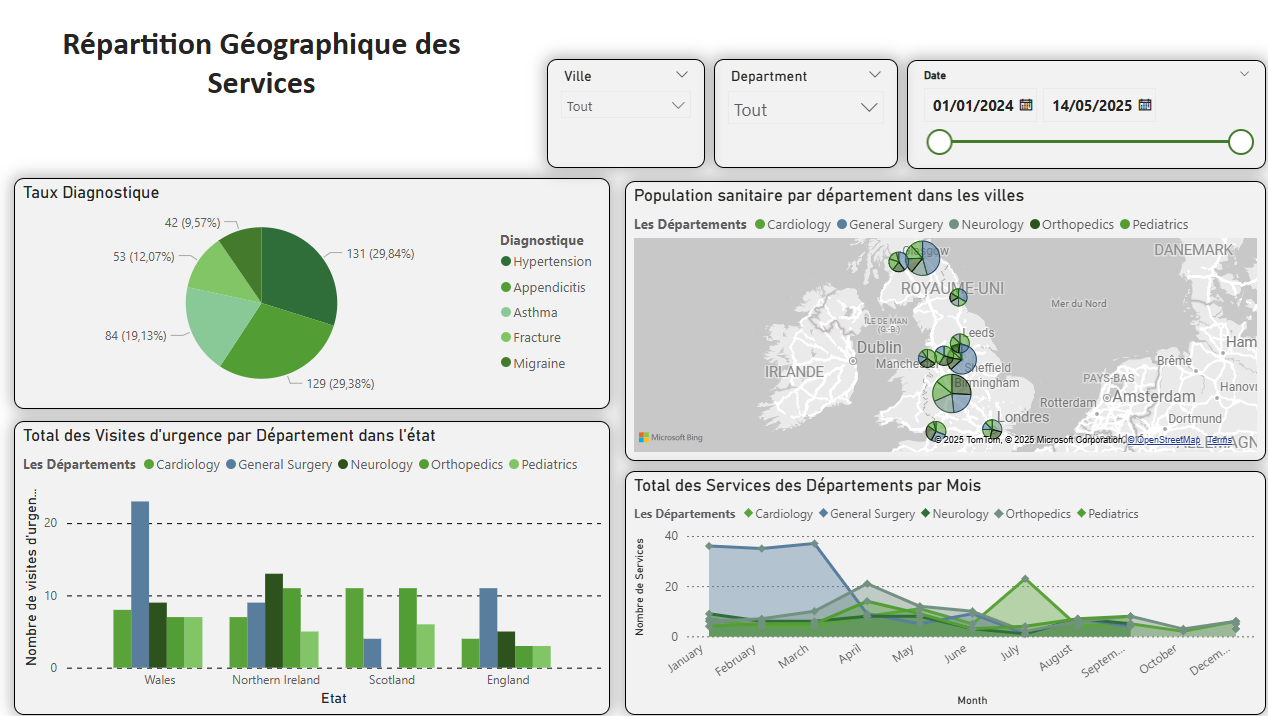

What the dashboard file says about the page in this screenshot:
{"tool":"powerbi","page":{"name":"Répartition Géographique","canvas":[1280,720],"ordinal":6},"visuals":[{"type":"slicer","fields":{"Values":["visits.Date of Visit"]},"box":[910,63.6,358.9,109],"z":0},{"type":"lineClusteredColumnComboChart","title":"Total des Visites d''urgence par Département dans l''état ","fields":{"Y":["visits.EmergencyVisitsCount"],"Category":["cities.State"],"Series":["departments.Department"]},"box":[16.7,425.5,596.6,293.8],"z":1000},{"type":"textbox","box":[16.7,22.7,495.1,103],"z":2000},{"type":"pieChart","title":"Taux Diagnostique","fields":{"Y":["visits.Sum diagnosis"],"Category":["diagnoses.Diagnosis"]},"box":[16.7,181.7,596.6,231.7],"z":3000},{"type":"map","title":"Population sanitaire par département dans les villes","fields":{"Size":["visits.Healthcare Population"],"Series":["departments.Department"],"Category":["cities.City"]},"box":[628.4,184.7,640.5,280.1],"z":4000},{"type":"areaChart","title":"Total des Services des Départements par Mois","fields":{"Category":["visits.Date of Visit.Variation.Date Hierarchy.Month"],"Y":["visits.Service Count"],"Series":["departments.Department"]},"box":[628.4,475.5,640.5,243.8],"z":5000},{"type":"slicer","fields":{"Values":["departments.Department"]},"box":[716.6,63.3,184.6,108.5],"z":6000},{"type":"slicer","fields":{"Values":["cities.City"]},"box":[550,63.3,157.5,108.5],"z":7000}]}

Visuals, with their boxes in screenshot pixels (x1, y1, x2, y2), scaled from the page's 1280x720 canvas onto the 1268x716 screenshot:
slicer - visits.Date of Visit: rect(901, 63, 1257, 172)
"Total des Visites d''urgence par Département dans l''état " lineClusteredColumnComboChart: rect(17, 423, 608, 715)
textbox: rect(17, 23, 507, 125)
"Taux Diagnostique" pieChart: rect(17, 181, 608, 411)
"Population sanitaire par département dans les villes" map: rect(623, 184, 1257, 462)
"Total des Services des Départements par Mois" areaChart: rect(623, 473, 1257, 715)
slicer - departments.Department: rect(710, 63, 893, 171)
slicer - cities.City: rect(545, 63, 701, 171)
